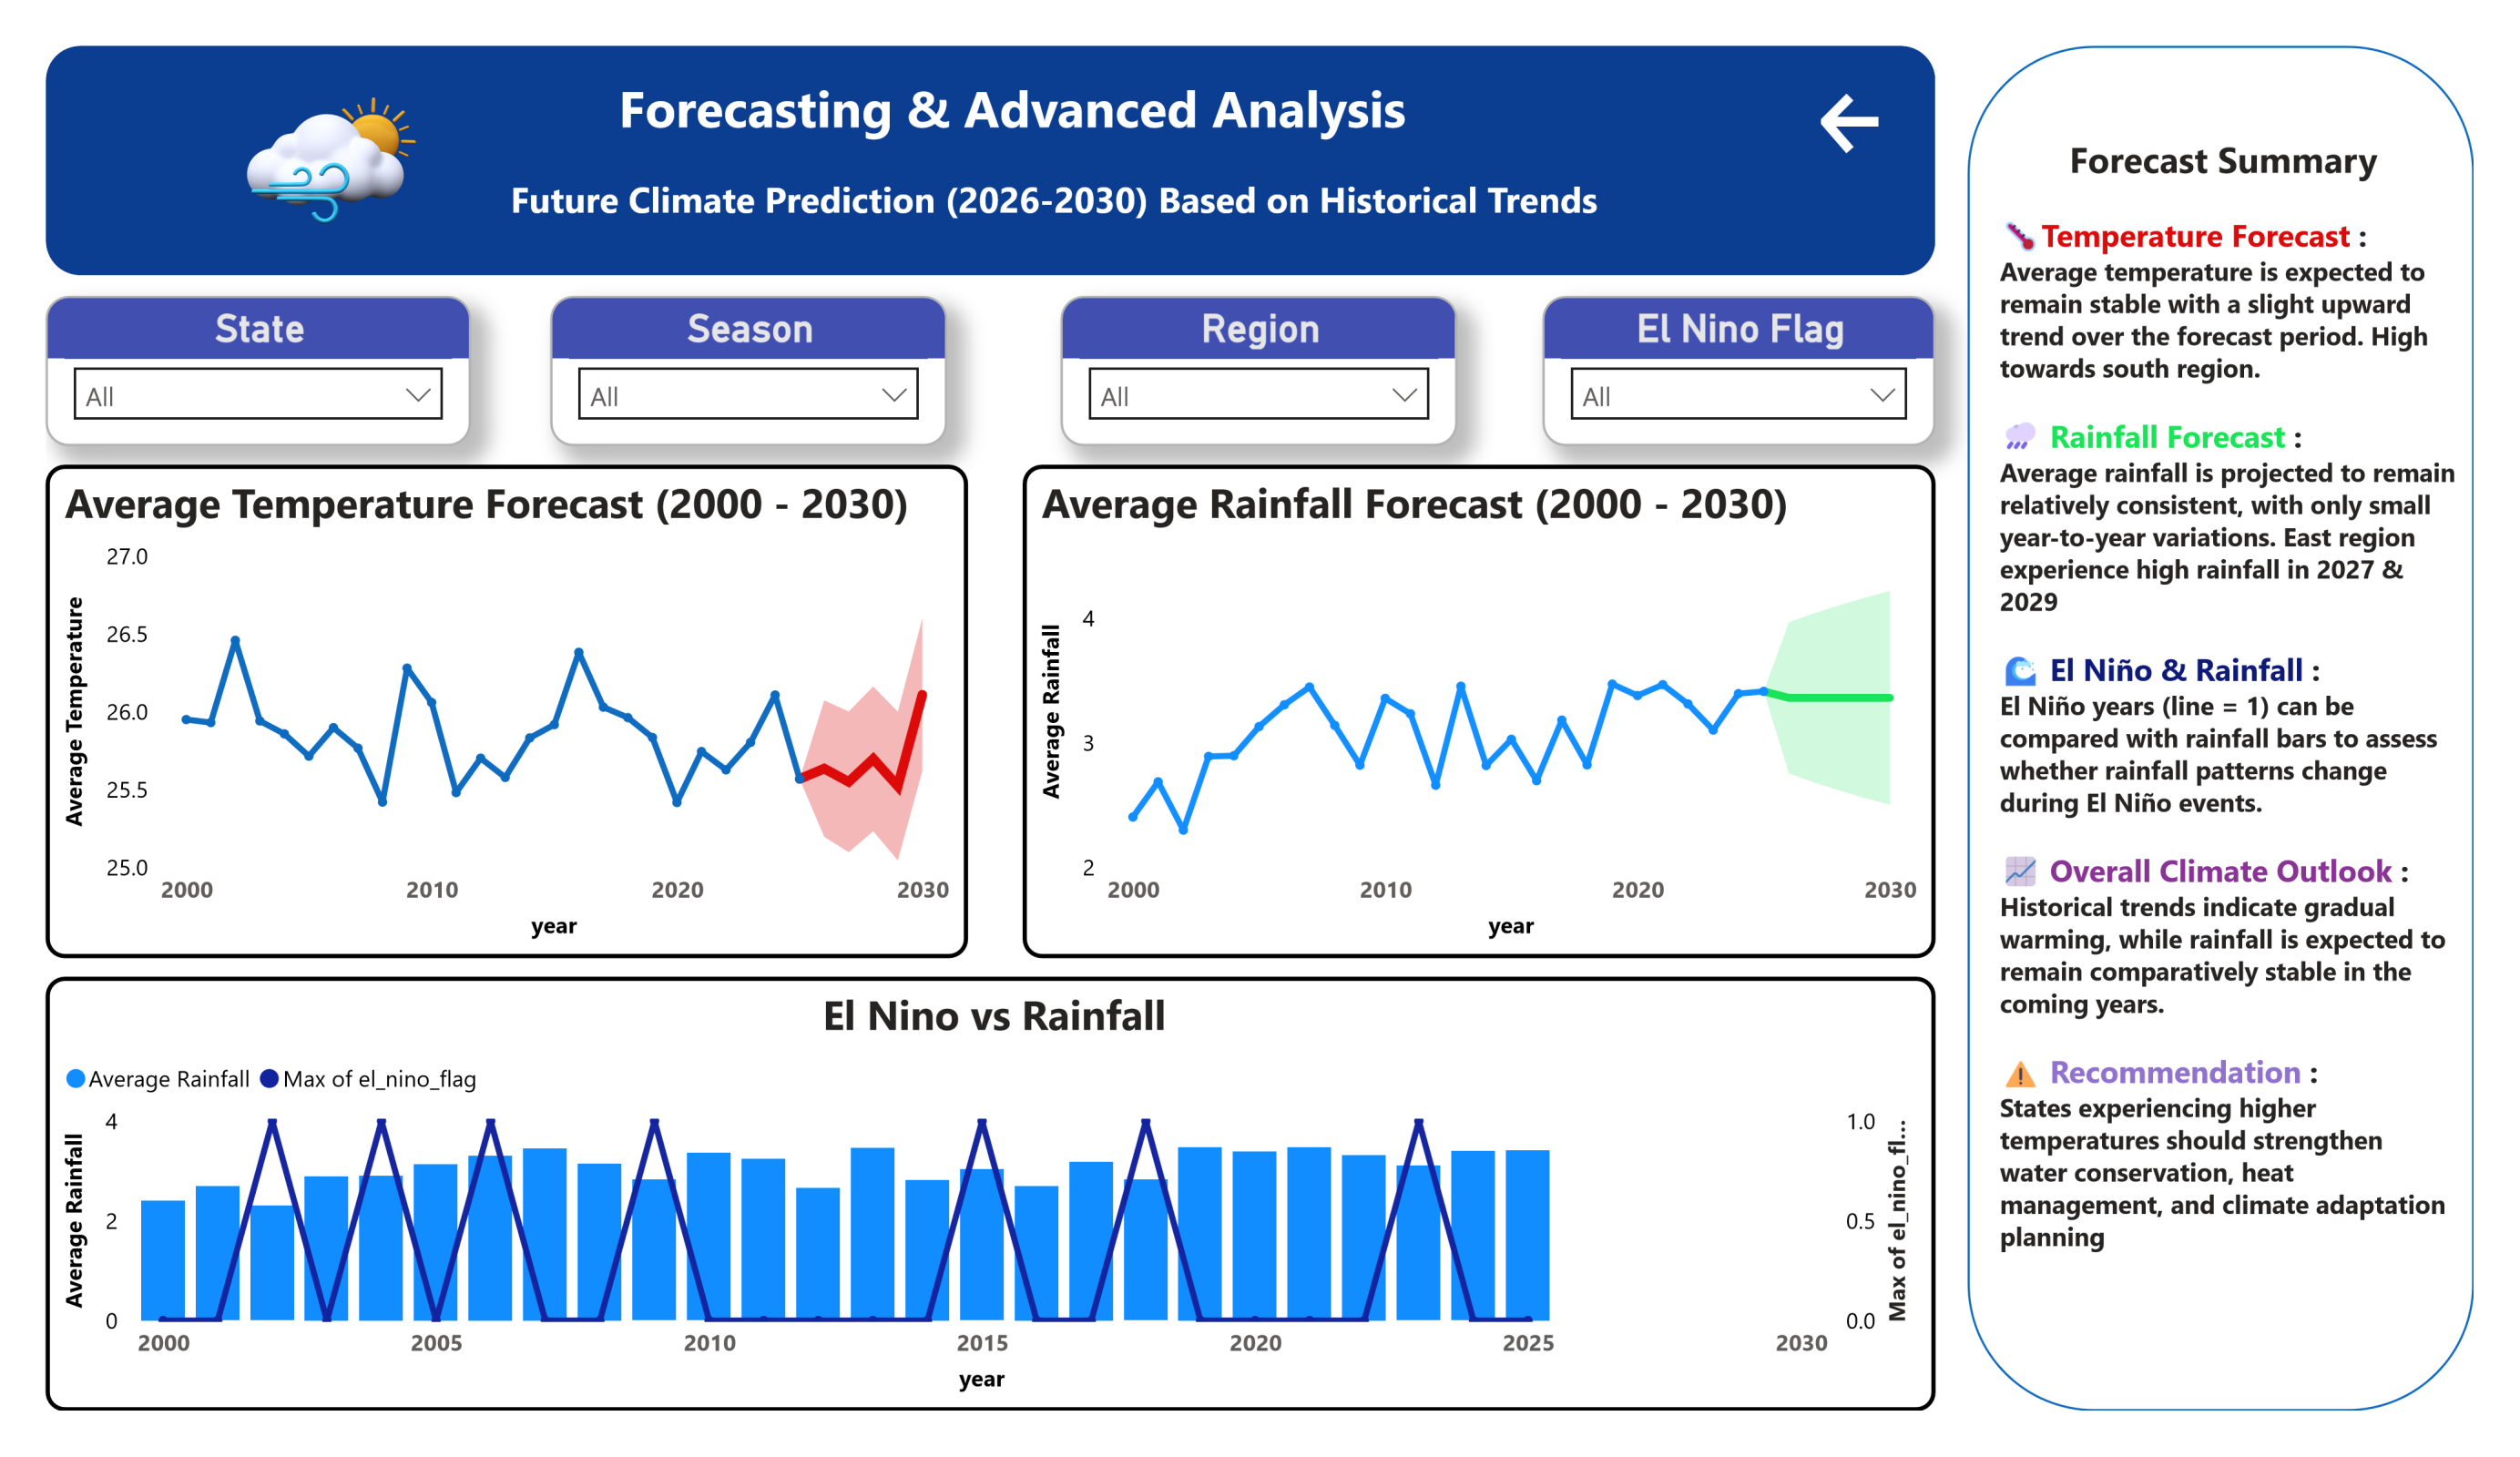

What the dashboard file says about the page in this screenshot:
{"tool":"powerbi","page":{"name":"Forecasting","canvas":[1280,720],"ordinal":1},"visuals":[{"type":"group","id":"g1","title":"Group 1","box":[0,0,996.4,120.7],"z":0,"group":"g2"},{"type":"shape","box":[0,0,996.4,120.7],"z":0,"group":"g1"},{"type":"slicer","title":"Season","fields":{"Values":["climate_analysis climate_data.season"]},"box":[266.2,131.9,209,79.6],"z":0},{"type":"textbox","box":[275.4,8.7,468.3,63.4],"z":1000,"group":"g1"},{"type":"textbox","box":[156.7,63.4,748.9,43.5],"z":1000,"group":"g2"},{"type":"slicer","title":"State","fields":{"Values":["climate_analysis climate_data.state"]},"box":[0,131.9,223.9,79.6],"z":1000},{"type":"slicer","title":"El Nino Flag","fields":{"Values":["climate_analysis climate_data.el_nino_flag"]},"box":[788.7,131.9,207.7,79.6],"z":2000},{"type":"slicer","title":"Region","fields":{"Values":["climate_analysis climate_data.region"]},"box":[534.9,131.9,209,79.6],"z":3000},{"type":"group","id":"g2","title":"Group 2","box":[0,0,996.4,120.7],"z":4000},{"type":"lineChart","title":"Average Temperature Forecast (2000 - 2030)","fields":{"Category":["climate_analysis climate_data.year"],"Y":["climate_analysis climate_data.Average Temperature"]},"box":[0,221.4,486.4,260],"z":5000},{"type":"lineChart","title":"Average Rainfall Forecast  (2000 - 2030)","fields":{"Category":["climate_analysis climate_data.year"],"Y":["climate_analysis climate_data.Average Rainfall"]},"box":[515,221.4,481.4,260],"z":6000},{"type":"lineClusteredColumnComboChart","title":"El Nino vs Rainfall","fields":{"Y":["climate_analysis climate_data.Average Rainfall"],"Category":["climate_analysis climate_data.year"],"Y2":["Max(climate_analysis climate_data.el_nino_flag)"]},"box":[0,491.4,996.4,228.9],"z":7000},{"type":"shape","box":[1012.6,0,267.5,720.3],"z":8000,"group":"g3"},{"type":"textbox","box":[1024.3,42.3,251.3,619.5],"z":8001,"group":"g3"},{"type":"group","id":"g3","title":"Group 3","box":[1012.6,0,267.5,720.3],"z":8002},{"type":"image","box":[0,0,301,120.7],"z":8004},{"type":"actionButton","box":[920.5,21.1,62.2,39.8],"z":8005}]}

Visuals, with their boxes on the page's 1280x720 design canvas (x1, y1, x2, y2). These are canvas units, not pixel positions in the 2520x1457 screenshot, which may show the page scaled, cropped or inside an application window:
"Group 1" group: [0, 0, 996, 121]
shape: [0, 0, 996, 121]
"Season" slicer: [266, 132, 475, 212]
textbox: [275, 9, 744, 72]
textbox: [157, 63, 906, 107]
"State" slicer: [0, 132, 224, 212]
"El Nino Flag" slicer: [789, 132, 996, 212]
"Region" slicer: [535, 132, 744, 212]
"Group 2" group: [0, 0, 996, 121]
"Average Temperature Forecast (2000 - 2030)" lineChart: [0, 221, 486, 481]
"Average Rainfall Forecast  (2000 - 2030)" lineChart: [515, 221, 996, 481]
"El Nino vs Rainfall" lineClusteredColumnComboChart: [0, 491, 996, 720]
shape: [1013, 0, 1280, 720]
textbox: [1024, 42, 1276, 662]
"Group 3" group: [1013, 0, 1280, 720]
image: [0, 0, 301, 121]
actionButton: [920, 21, 983, 61]
